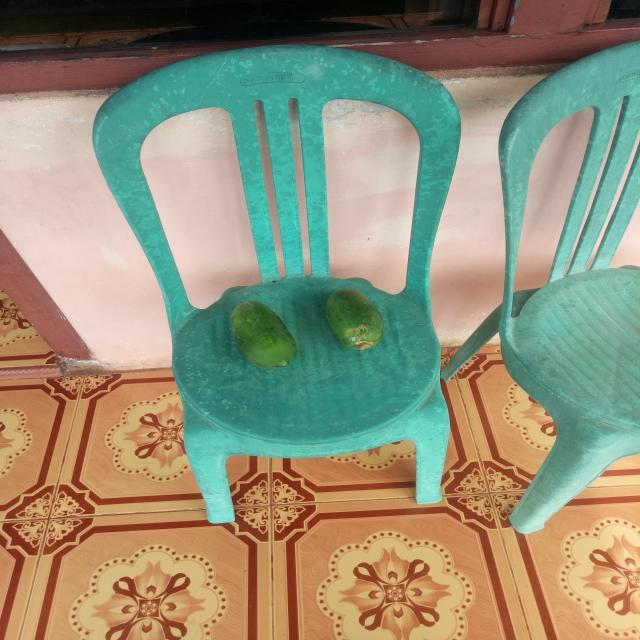Pepaya unrippen: (312, 278, 388, 358), (230, 300, 302, 369)
